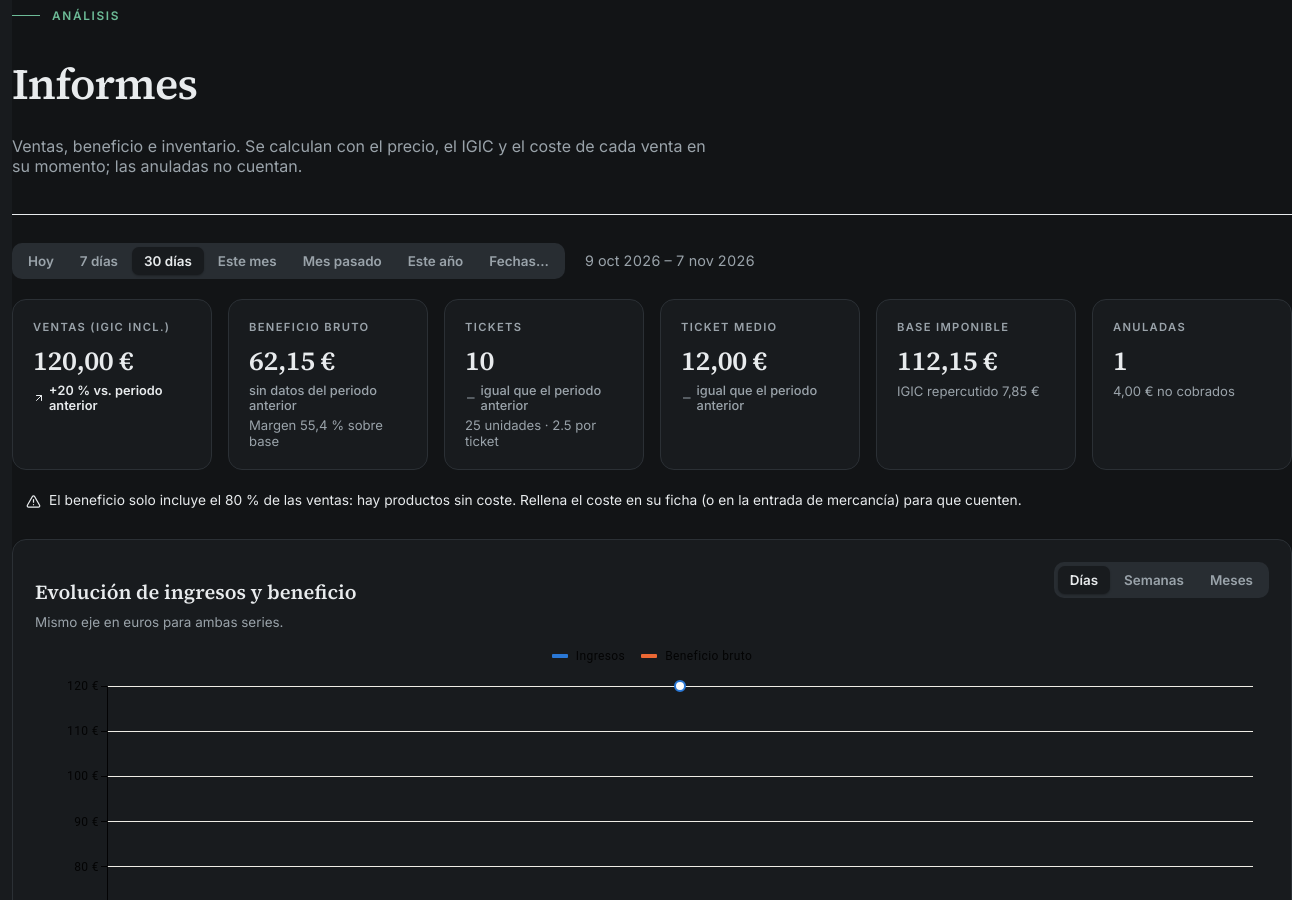
Test: GraphScreen › fechas personalizadas al revés: aviso y sin peticiones
Expected: the text "+20 % vs. periodo anterior" is shown, [33,383,163,413]
Click the tab "Fechas…". click: [519, 261]
box: [477,247,561,275]
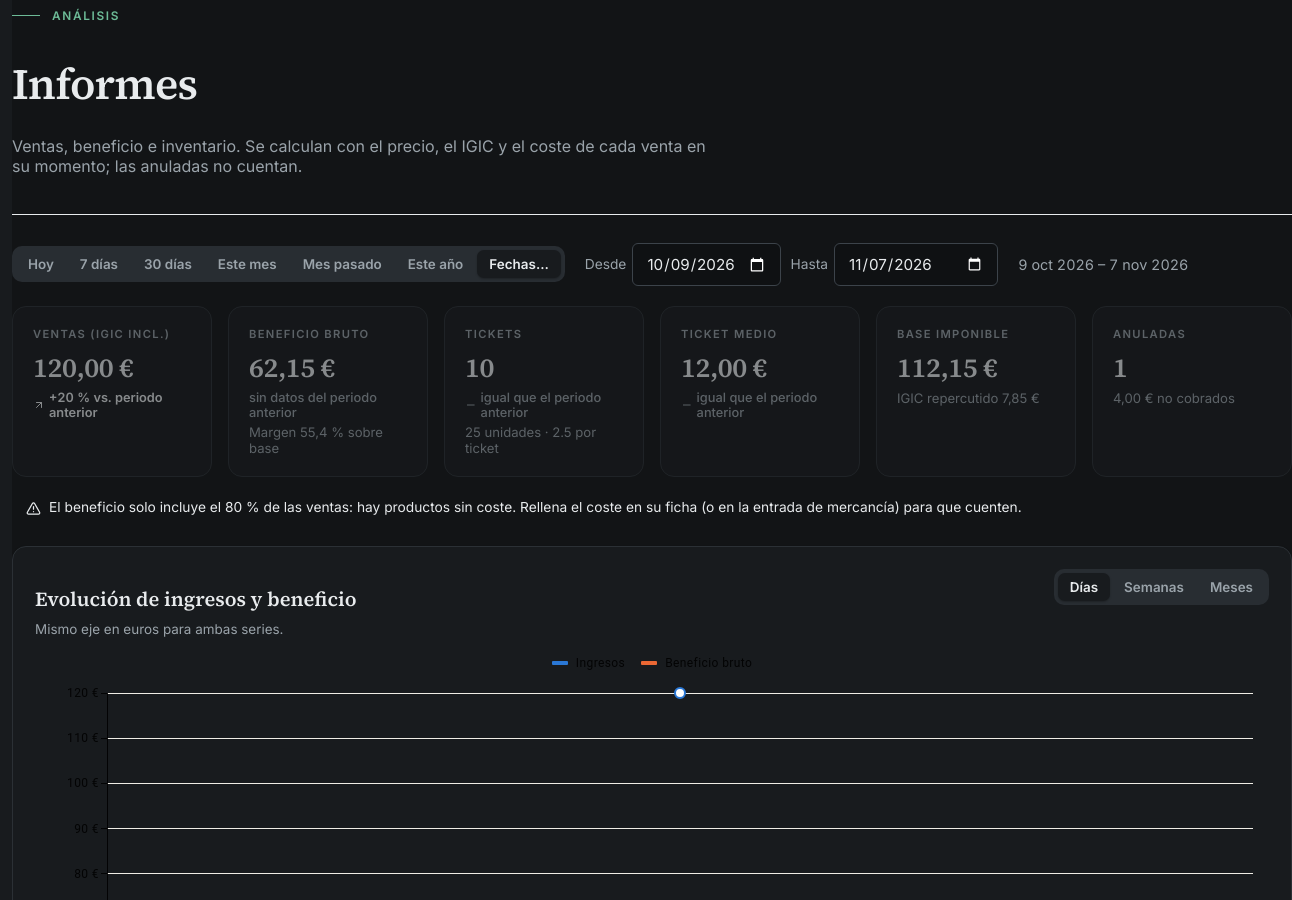
Type "2025-06-10" into the date field labelled "Desde". click: [706, 264]
box: [632,243,781,286]
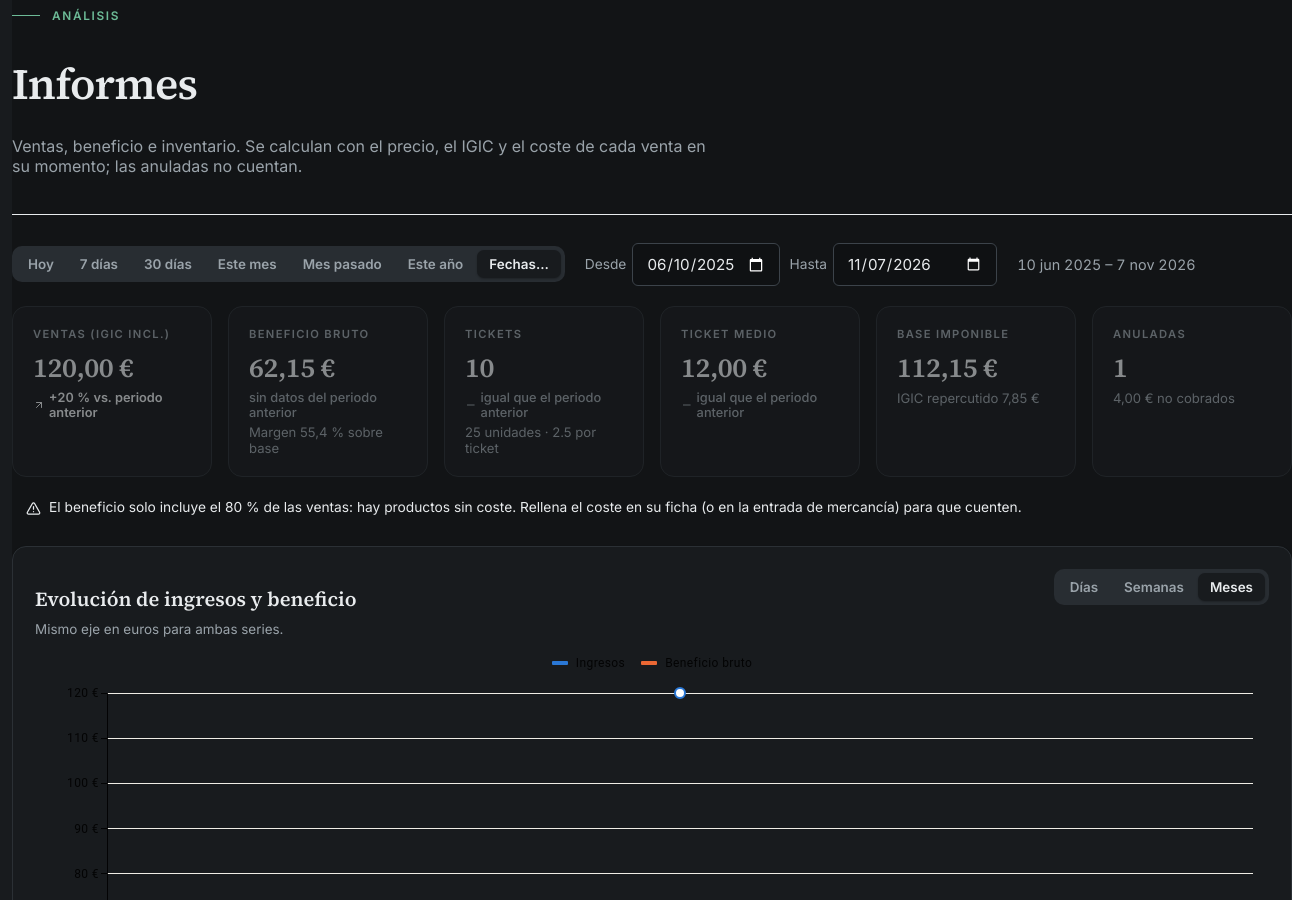
Type "2025-06-01" into the date field labelled "Hasta". click: [915, 264]
box: [833,243,997,286]
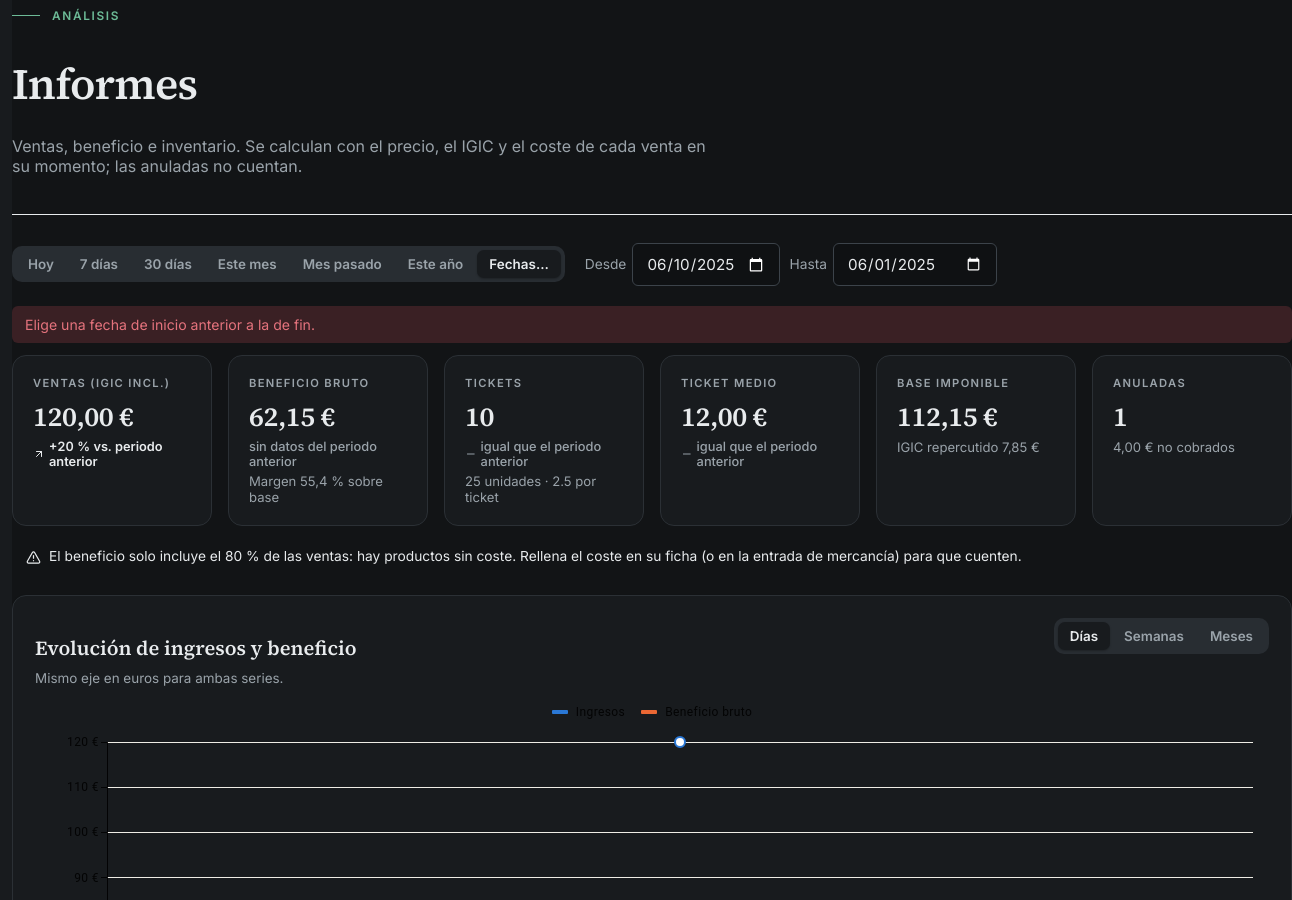
Expected: the text "Elige una fecha de inicio anterior a la de fin." is shown, [12,306,1291,343]
